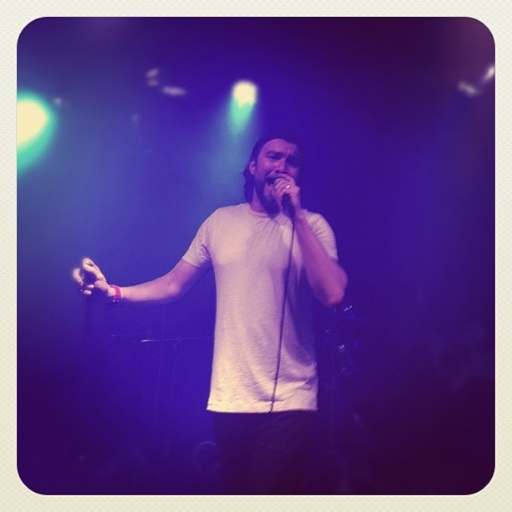hand: (62, 256, 120, 312), (269, 172, 301, 216)
